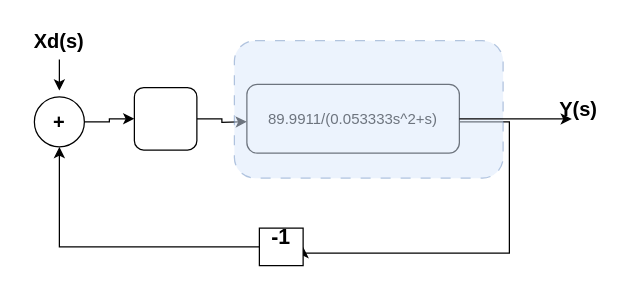
The diagram is 630 pixels wide and 290 high, and some of its shapes have lost their labels. The shapes that lost their labels are listed below. From the top down, each one's box as (x1, y1, x2, y2) in pixels, then its label:
(133, 86, 197, 150): Kp
(233, 39, 503, 178): CR-MECHANISM
